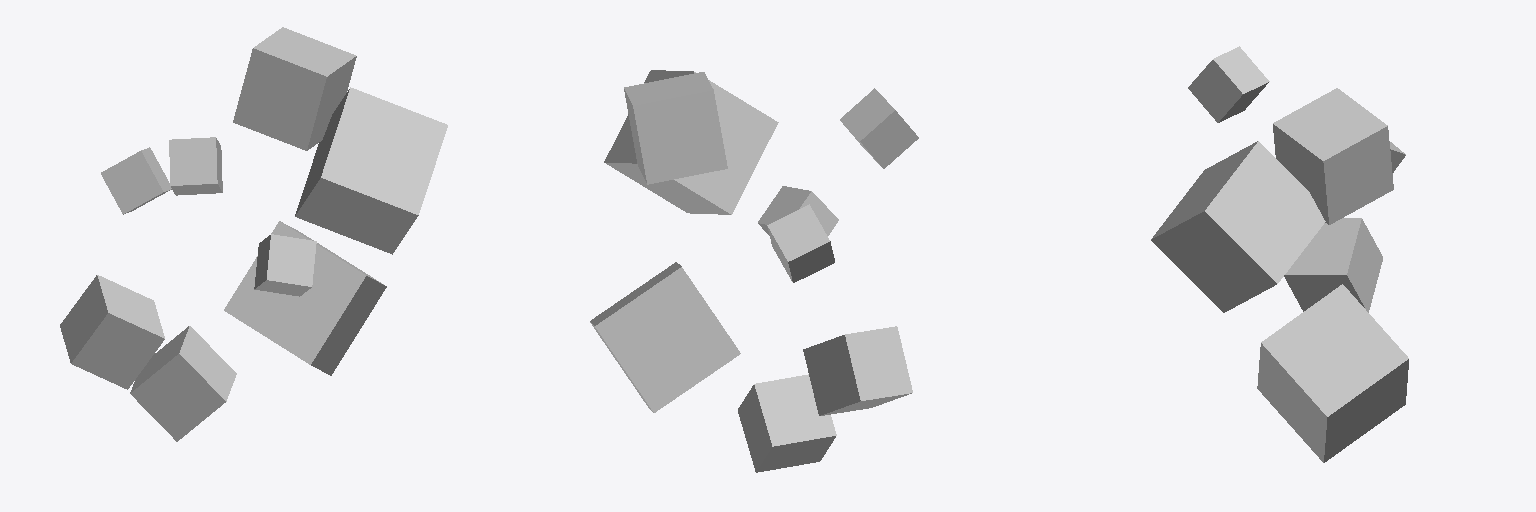
File: cubes2.obj
The picture shows the model from 3 angles: view 1: azimuth 30°, elevation 25°; view 2: azimuth 150°, elevation 25°; view 3: azimuth 270°, elevation 25°; orthographic projection.
Parts seen in each view (by area): view 1: Cube; view 2: Cube; view 3: Cube.
Boxes of the visible parts, box(x1,y1,x2,y2) form: Cube: box(60, 27, 447, 441); Cube: box(590, 70, 918, 472); Cube: box(1151, 46, 1408, 462).
Bounding box in the file's own units: 735 × 768 × 498.